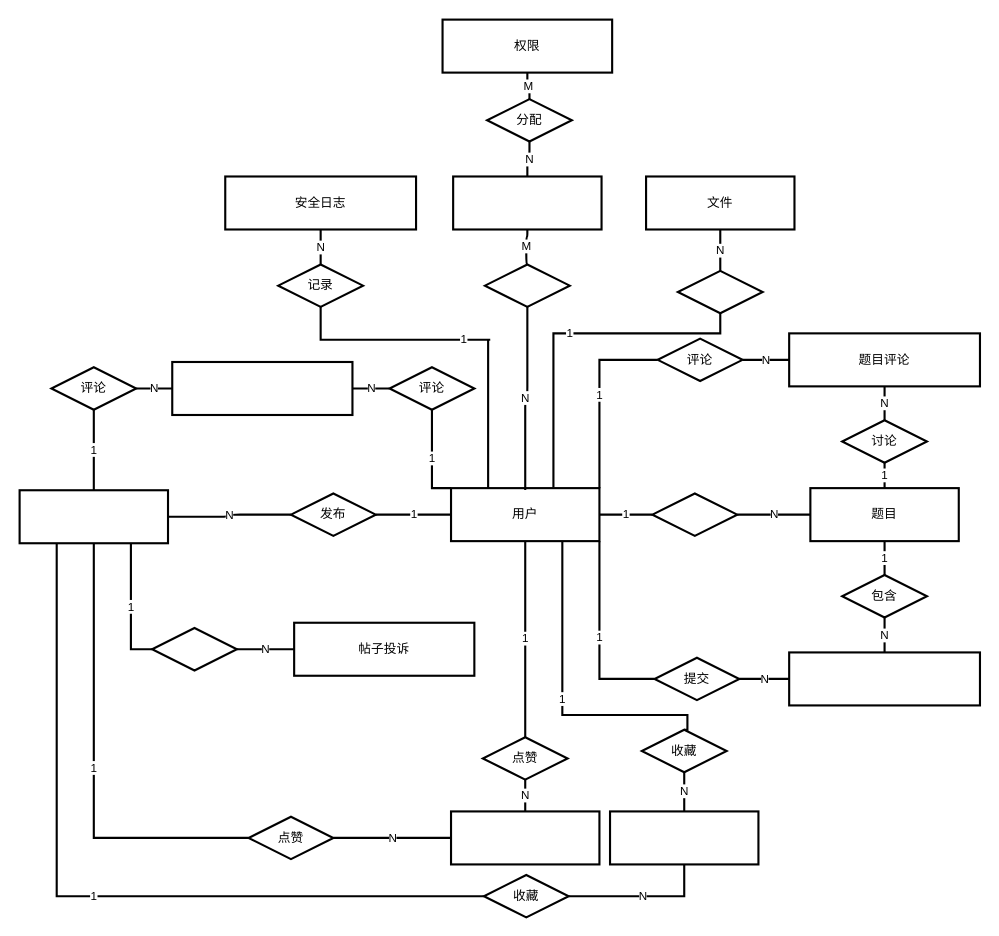
The diagram is 999 pixels wide and 936 high, and some of its shapes have lost their labels. Here are the shapes that lost their labels. From the top down, the box of each, then its label:
(452, 175, 602, 230): 角色
(483, 263, 570, 307): 关联
(676, 269, 763, 314): 上传
(171, 360, 353, 416): 帖子评论
(18, 489, 169, 544): 帖子
(651, 492, 738, 536): 创建
(151, 626, 237, 671): 投诉
(788, 651, 980, 706): 题目提交
(449, 810, 600, 865): 帖子点赞
(608, 810, 759, 865): 帖子收藏
